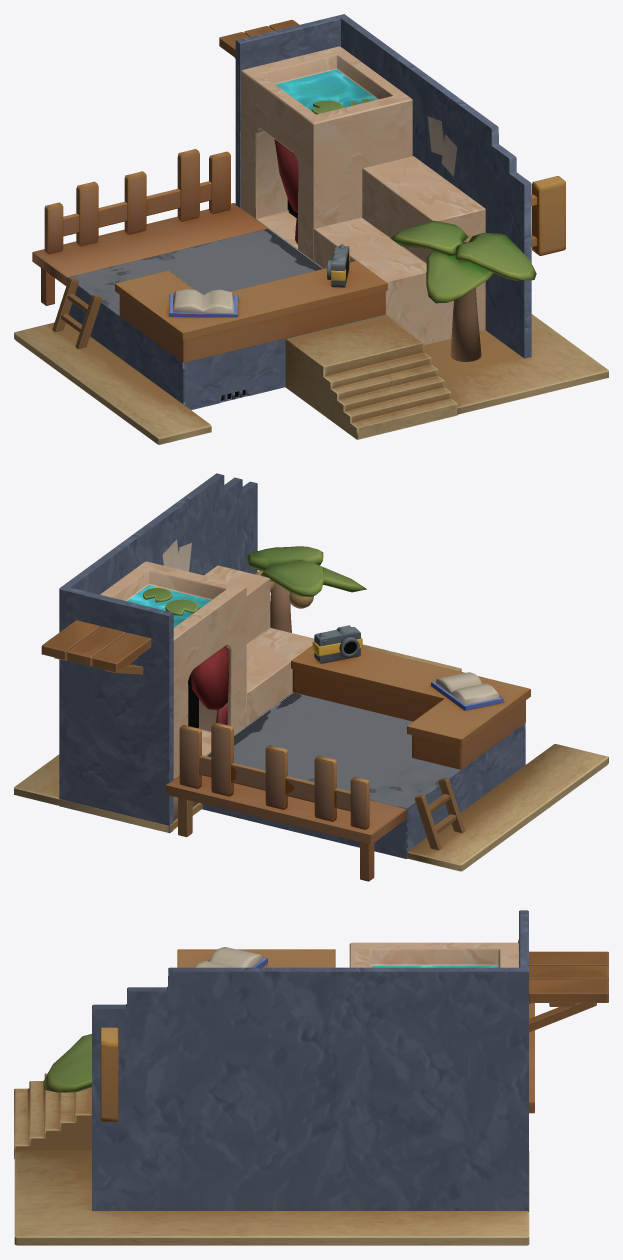
File: clayisland.glb
The picture shows the model from 3 angles, top to bottom: view 1: azimuth 30°, elevation 25°; view 2: azimuth 150°, elevation 25°; view 3: azimuth 270°, elevation 25°; orthographic projection. The views are drawn at different scales.
Visible parts, largest first — view 1: SM_base, SM_island_book, SM_island_camera; view 2: SM_base, SM_island_book, SM_island_camera; view 3: SM_base, SM_island_book.
Boxes of the visible parts, x1,y1,x2,y2 form: SM_base: [14, 14, 608, 444]; SM_island_book: [169, 289, 238, 317]; SM_island_camera: [327, 244, 349, 287]; SM_base: [14, 473, 608, 881]; SM_island_book: [431, 672, 503, 710]; SM_island_camera: [312, 625, 362, 663]; SM_base: [14, 910, 608, 1245]; SM_island_book: [194, 947, 267, 967].
Size of the model in its own units: 21.79 by 10.94 by 23.67.
Materials: 5 (5 with a texture image).
